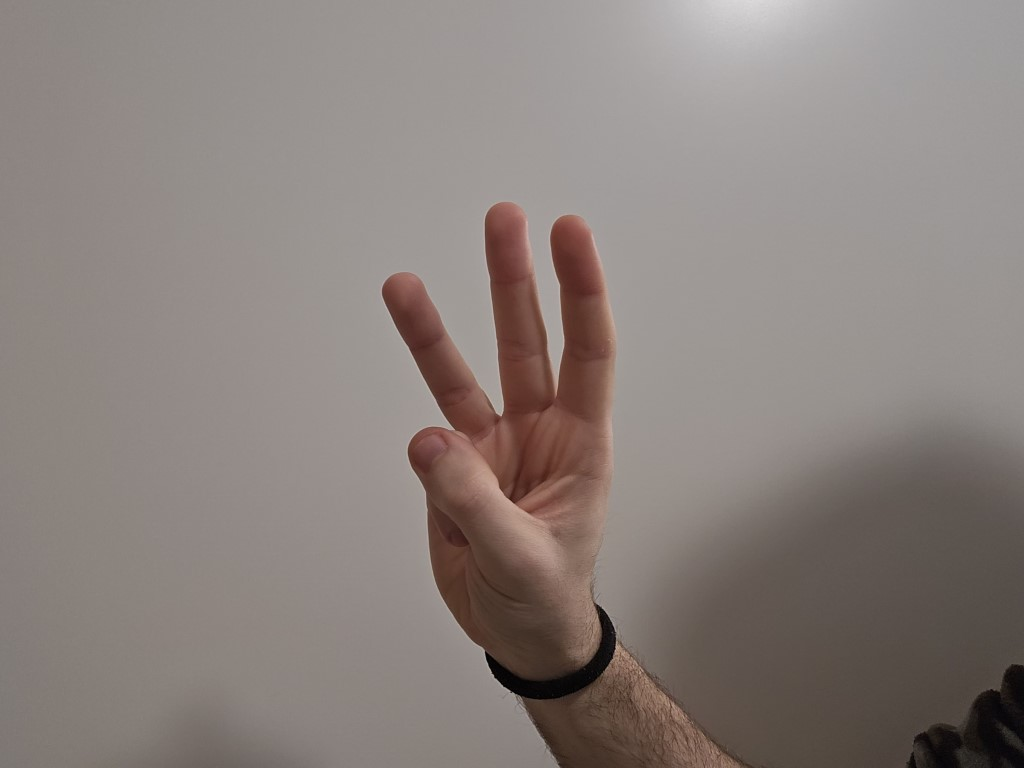w: (307, 173, 684, 667)
